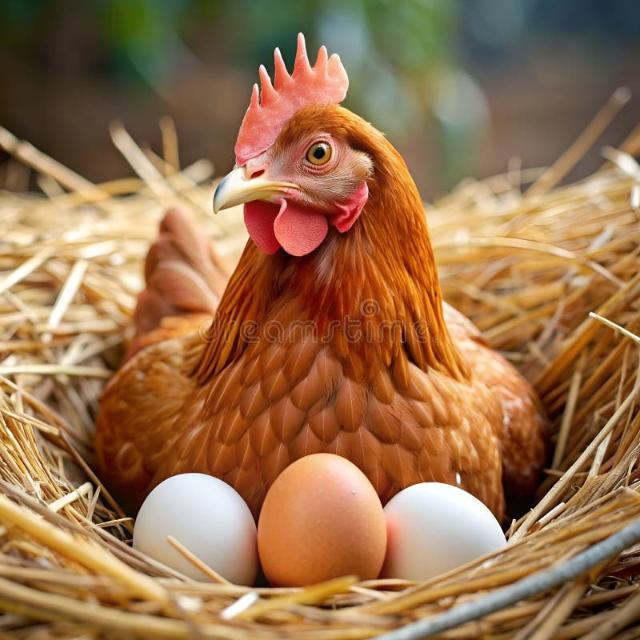Chicken: (93, 34, 545, 526)
